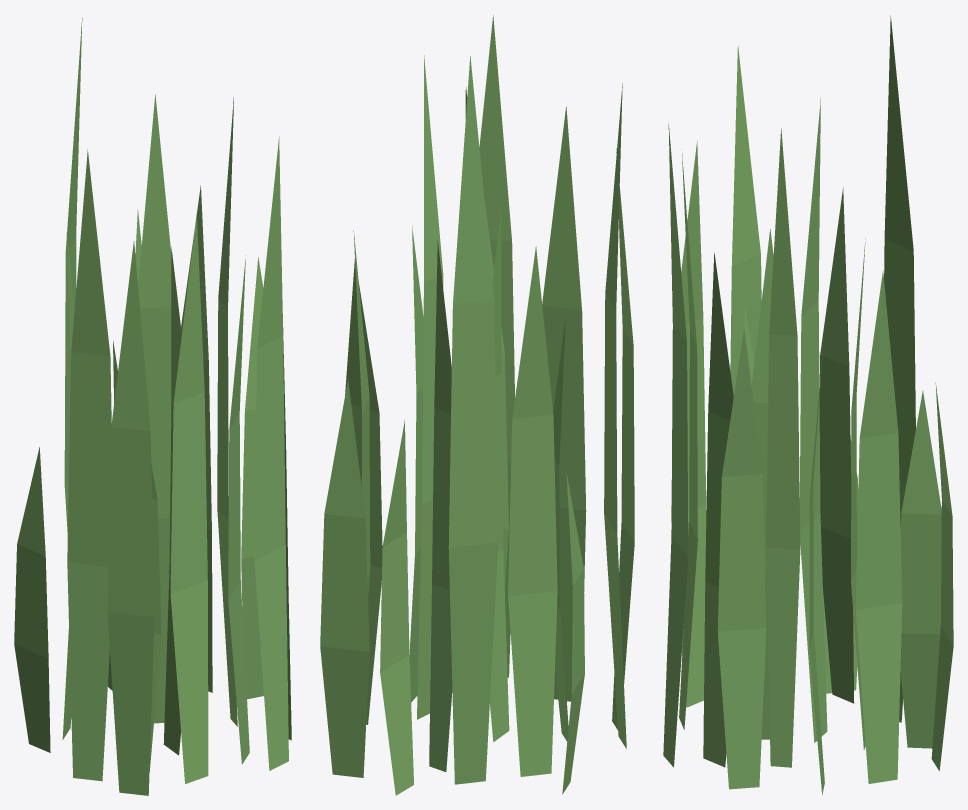
Rendered from grass.glb.
3 views of the same model, side by side, from view 1: azimuth 30°, elevation 25°; view 2: azimuth 150°, elevation 25°; view 3: azimuth 270°, elevation 25° (orthographic). The views are drawn at different scales.
Visible parts, largest first — view 1: Grass; view 2: Grass; view 3: Grass.
Boxes of the visible parts, x1,y1,x2,y2 form: Grass: (14,17,291,795); Grass: (320,15,634,795); Grass: (663,15,953,794).
Bounding box in the file's own units: 0.8123 × 2.22 × 0.8194.
